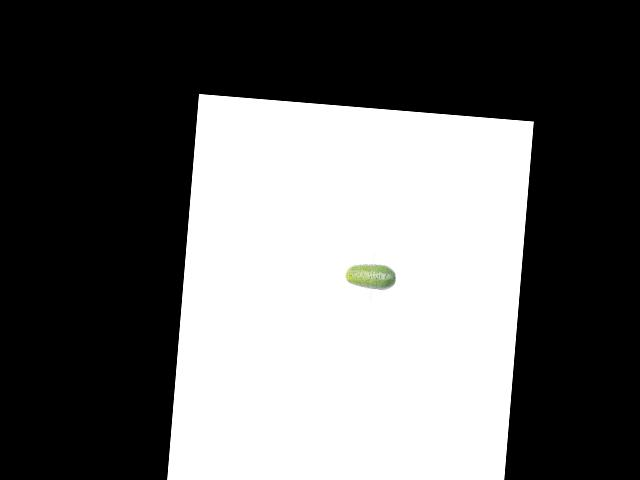cucumber: (344, 261, 397, 291)
